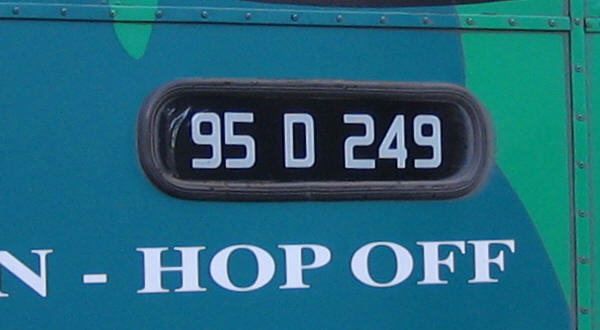license_plate: (140, 79, 496, 199)
